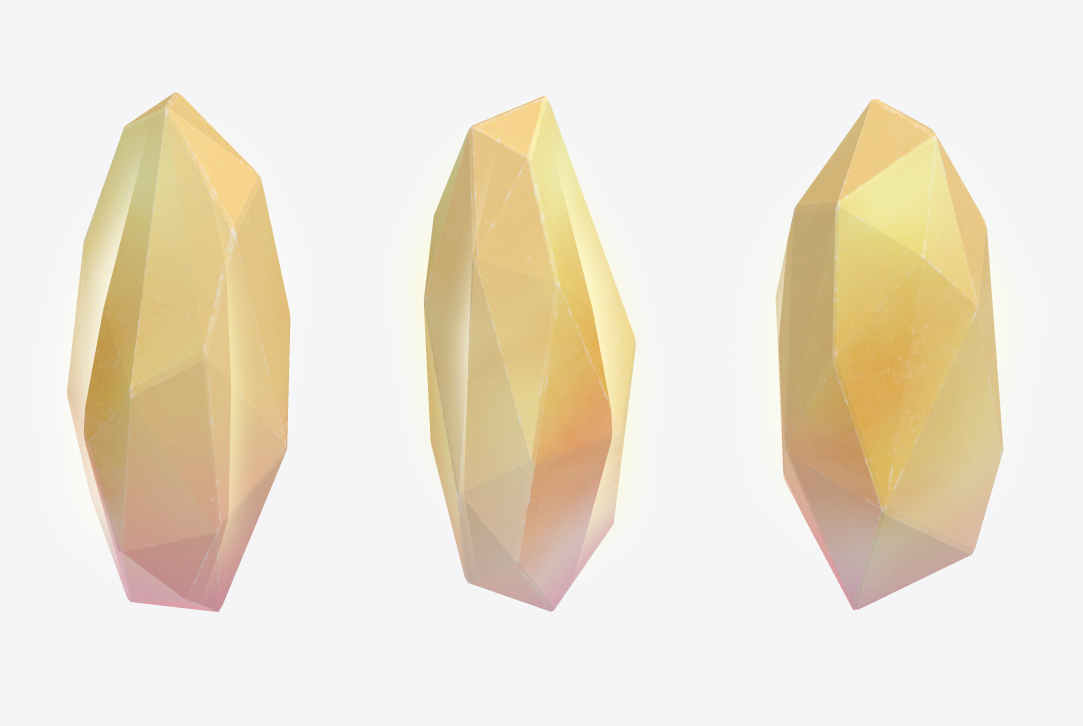
Rendered from gem_D.glb.
3 views of the same model, side by side, from view 1: azimuth 30°, elevation 25°; view 2: azimuth 150°, elevation 25°; view 3: azimuth 270°, elevation 25° (orthographic). The views are drawn at different scales.
Parts seen in each view (by area): view 1: D, light-D; view 2: D, light-D; view 3: D, light-D.
Part boxes in pixels (<box>): D: <box>67,92,290,612</box>; light-D: <box>47,154,298,568</box>; D: <box>423,95,635,611</box>; light-D: <box>397,154,648,564</box>; D: <box>775,99,1003,609</box>; light-D: <box>748,167,1029,534</box>.
Bounding box in the file's own units: 3.22 × 5.42 × 3.22.
2 materials, 2 textured.
